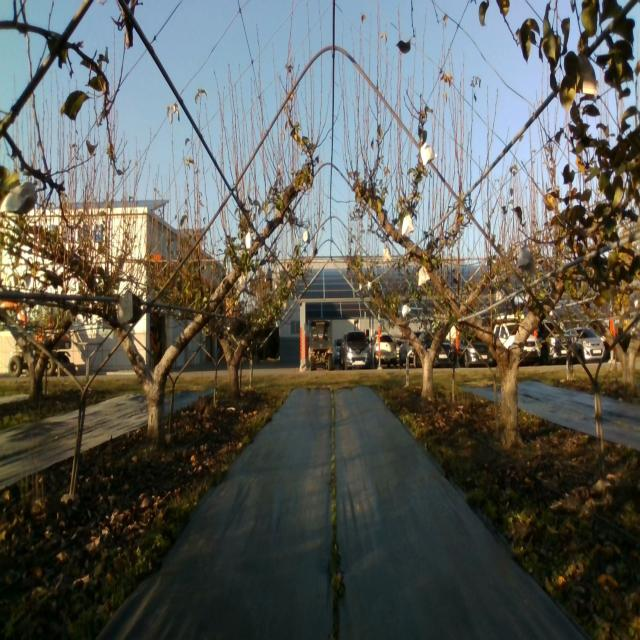pearbags: (0, 181, 38, 214), (576, 57, 599, 96), (518, 240, 536, 272), (420, 138, 437, 166), (402, 214, 414, 236), (418, 265, 430, 286)
